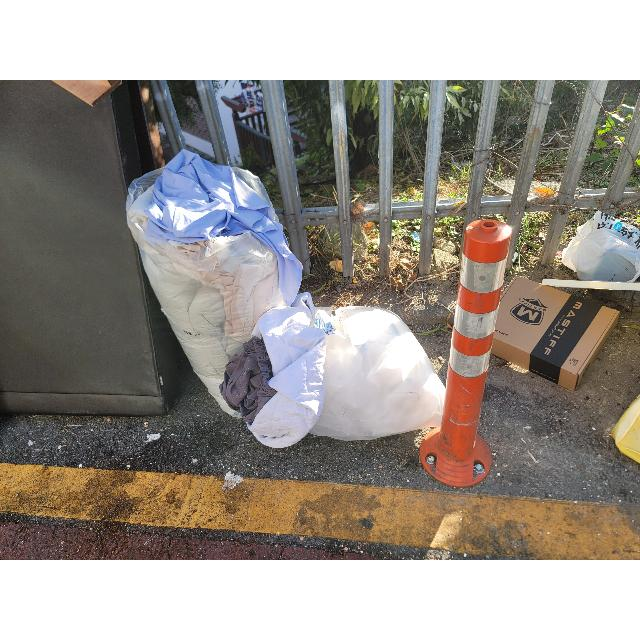other_trashbag: (126, 159, 286, 416), (310, 306, 445, 440), (180, 151, 284, 235), (562, 211, 640, 282)
